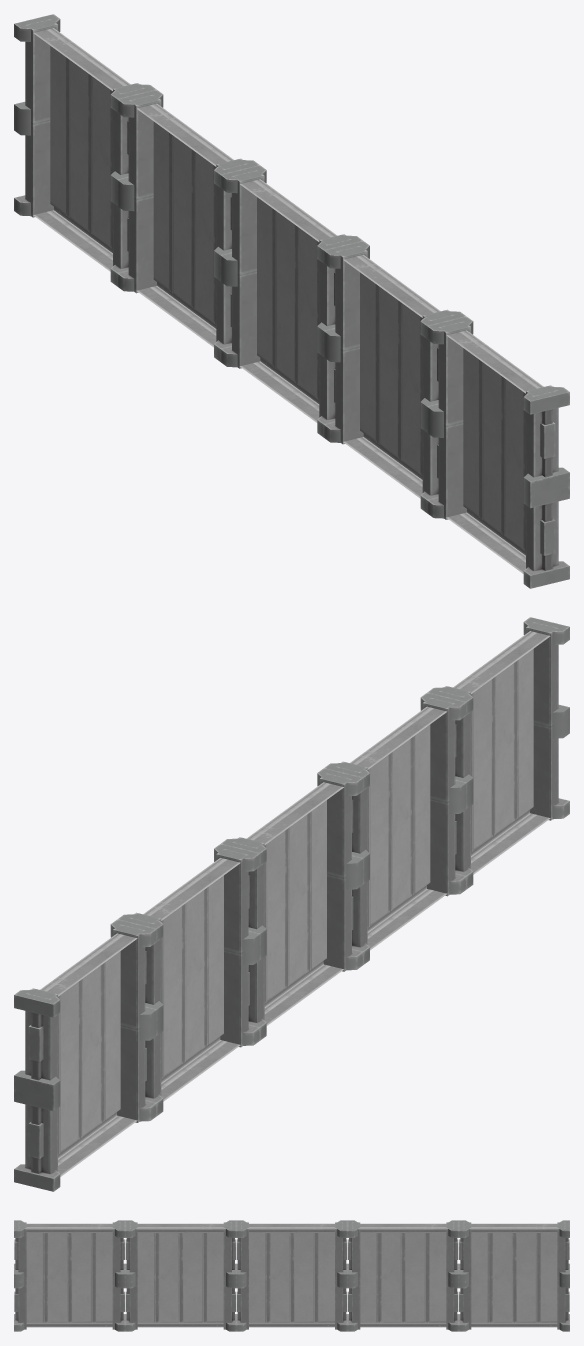
File: Pfb_JALB_WallPart2_Line__9.fbx
The picture shows the model from 3 angles, top to bottom: view 1: azimuth 30°, elevation 25°; view 2: azimuth 150°, elevation 25°; view 3: azimuth 270°, elevation 25°; orthographic projection. The views are drawn at different scales.
Visible parts, largest first — view 1: MAT_Roof; view 2: MAT_Roof; view 3: MAT_Roof.
Part boxes in pixels (box(x1,y1,x2,y2)): MAT_Roof: box(14, 14, 569, 588); MAT_Roof: box(14, 617, 569, 1191); MAT_Roof: box(14, 1220, 569, 1331).
Size of the model in its own units: 0.8873 by 4 by 20.
Materials: 1 (1 with a texture image).
